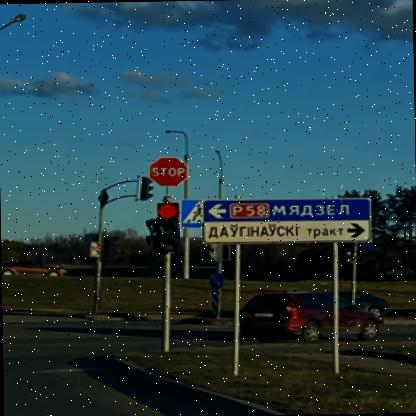stop: (146, 155, 187, 186)
trafficlight: (152, 200, 178, 249), (132, 172, 148, 198), (101, 232, 116, 258), (142, 218, 154, 247), (86, 239, 100, 257)
